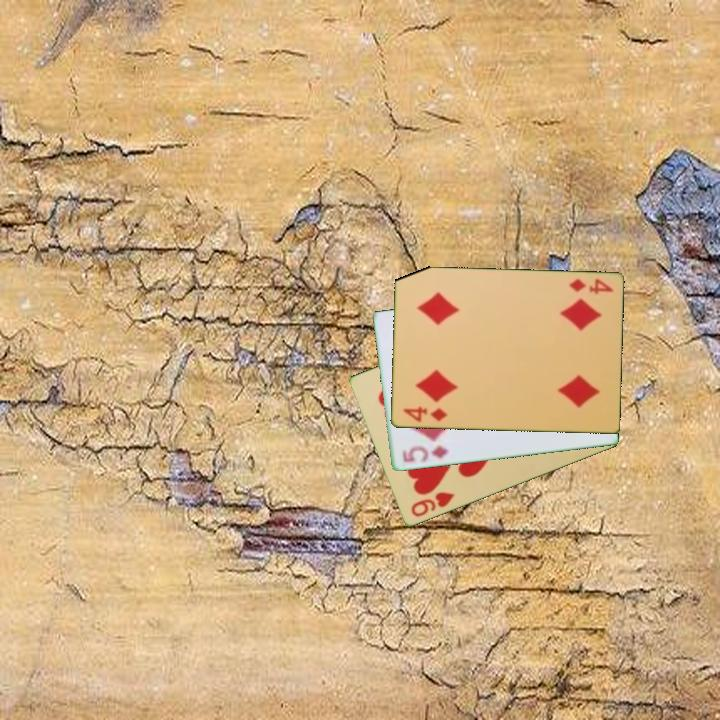4d: (399, 403, 450, 425), (565, 275, 616, 297)
5d: (399, 442, 451, 466)
9h: (407, 489, 457, 520)
